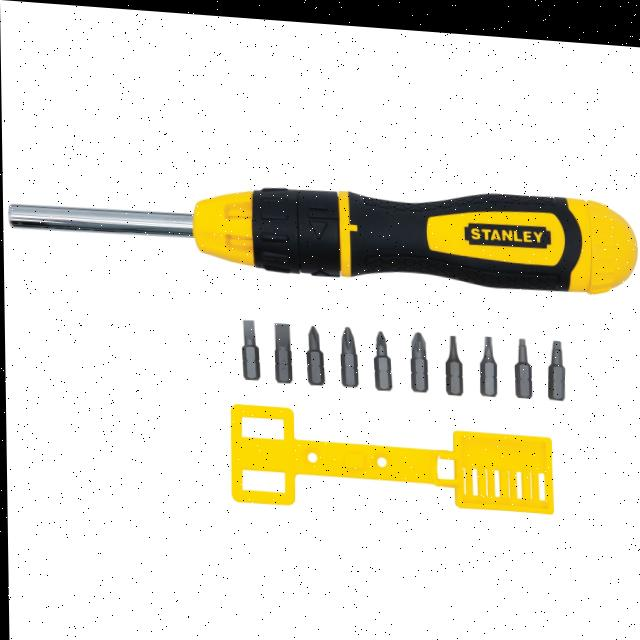Screwdriver: (9, 184, 636, 285)
